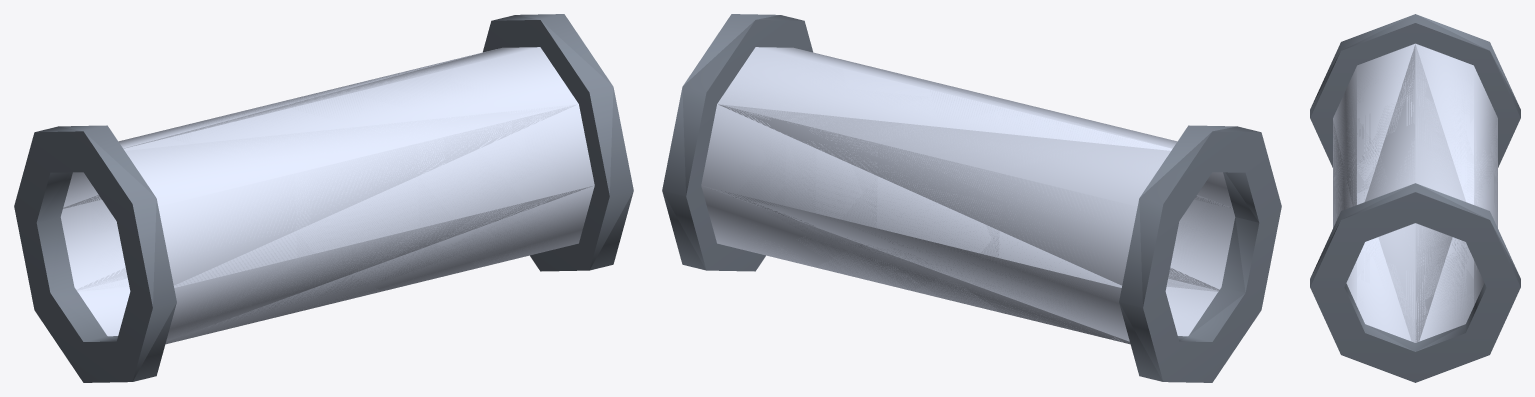
The model's file is factory_pipe_glass_large_long.fbx.
3 views of the same model, side by side, from view 1: azimuth 30°, elevation 25°; view 2: azimuth 150°, elevation 25°; view 3: azimuth 270°, elevation 25° (orthographic). The views are drawn at different scales.
Parts seen in each view (by area): view 1: factory_pipe_glass_large_long; view 2: factory_pipe_glass_large_long; view 3: factory_pipe_glass_large_long.
Boxes of the visible parts, x1,y1,x2,y2 form: factory_pipe_glass_large_long: (14, 14, 633, 382); factory_pipe_glass_large_long: (662, 14, 1281, 382); factory_pipe_glass_large_long: (1310, 14, 1520, 382).
Size of the model in its own units: 2 by 1 by 1.
